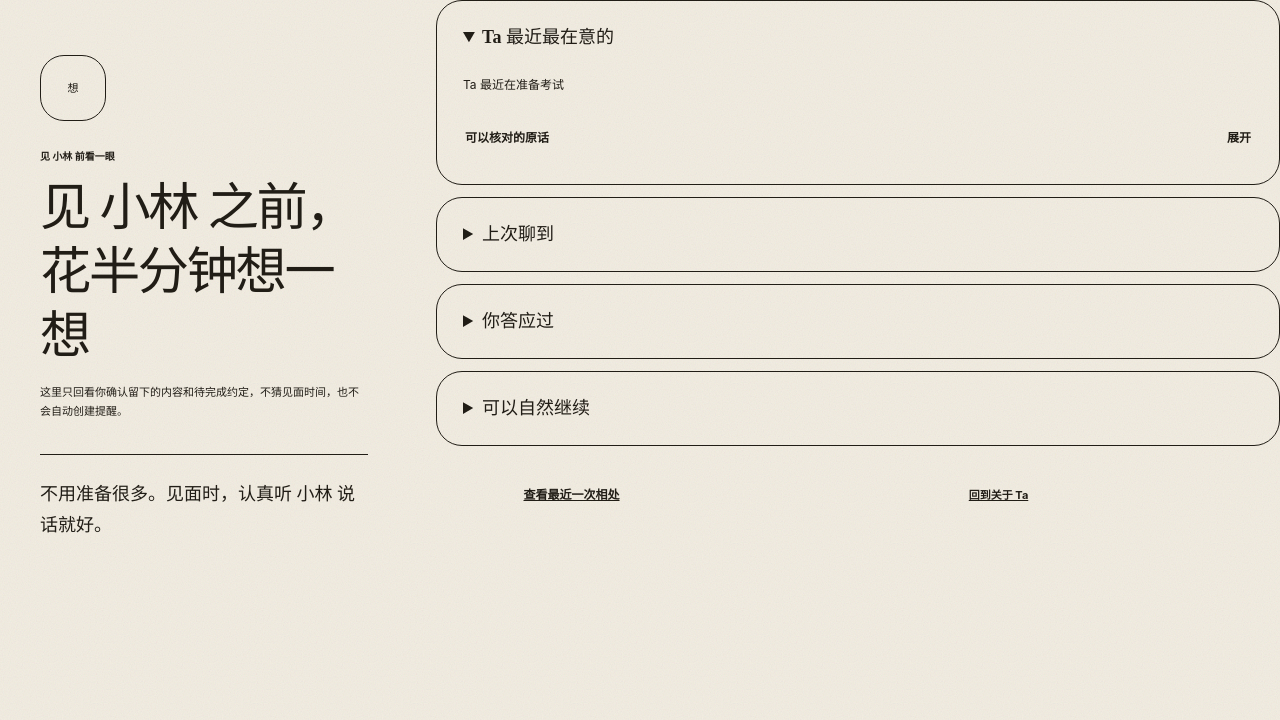
CompanionPrepare › uses only kept items and open promises
This screenshot has width=1280, height=720.
expect the heading "见 小林 之前，花半分钟想一想" is shown: met, box [40,176,368,368]
expect the header with class "date-companion-prepare-header" is shown: met, box [40,55,368,541]
Step 1. Click the heading "你答应过" → (518, 321), box [482,311,554,331]
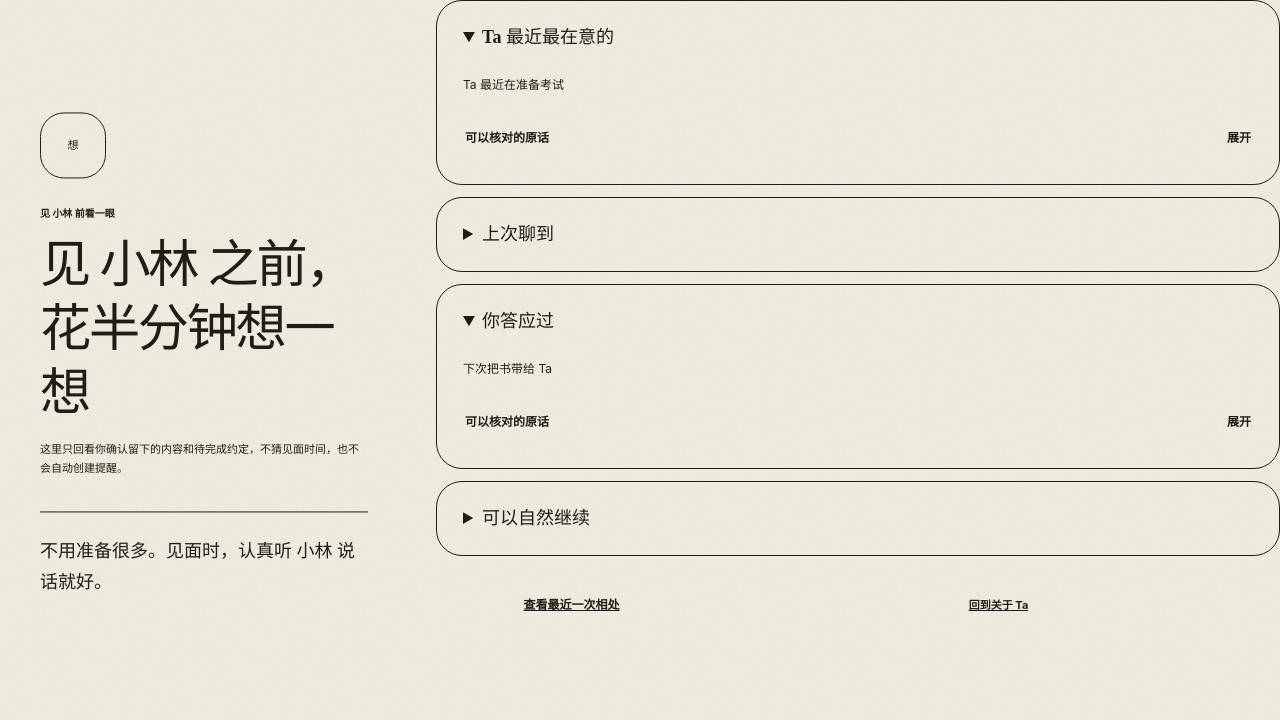
expect the text "下次把书带给 Ta" is shown: met, box [463,361,552,376]
